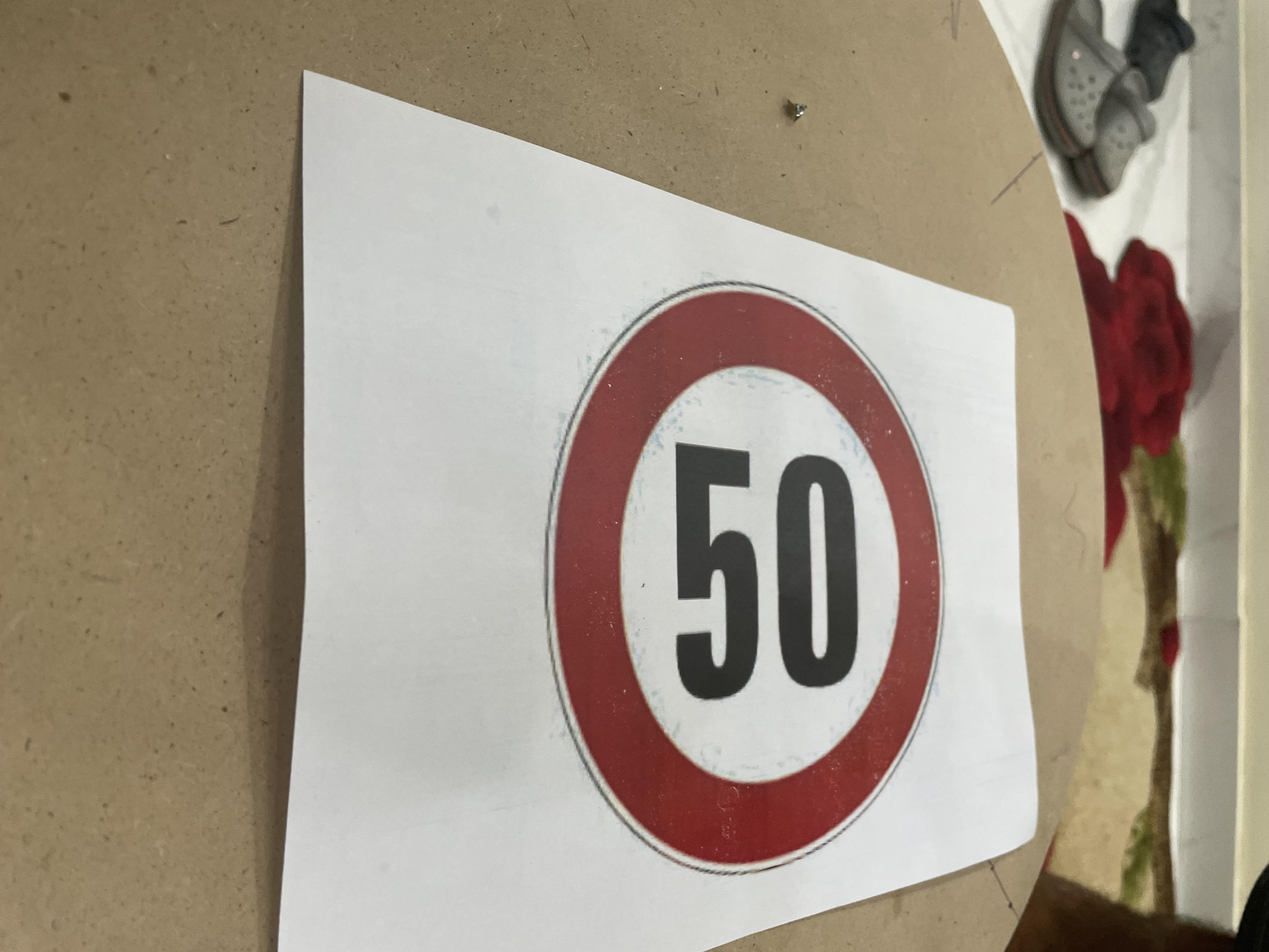50-Speed: (395, 239, 1194, 547)
